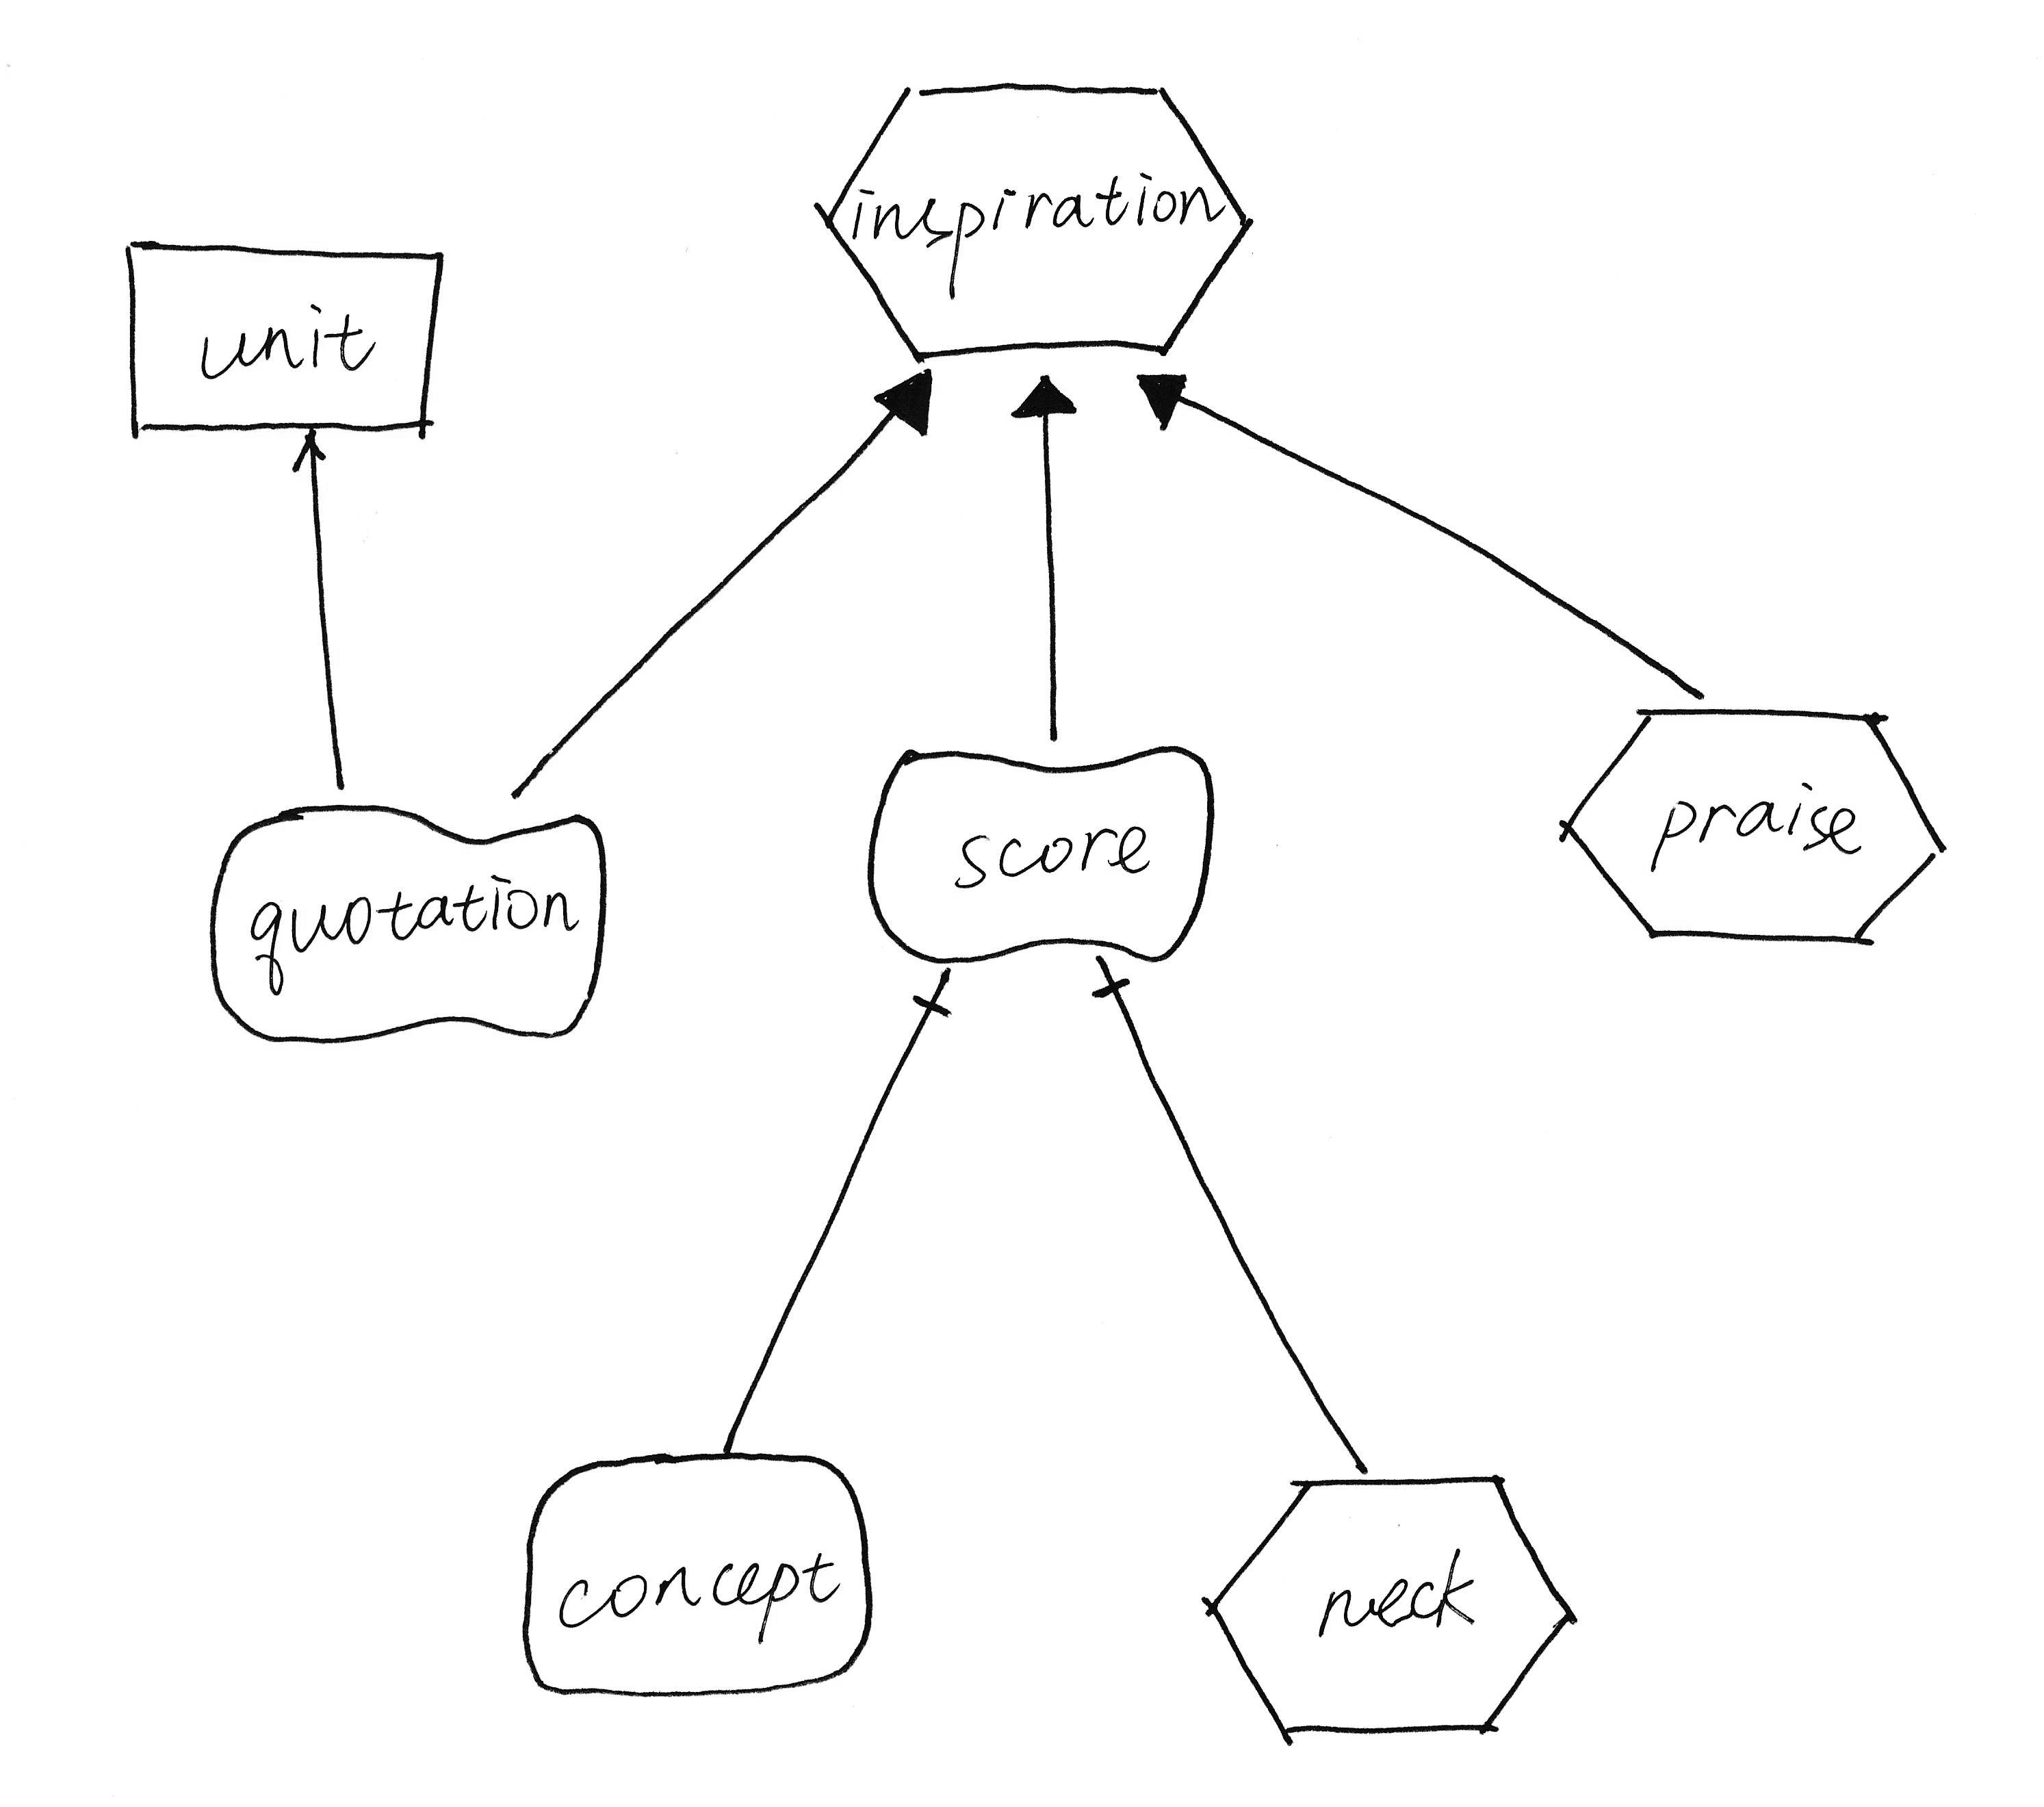and: (1071, 938, 1153, 1019), (898, 956, 971, 1043)
arrow: (279, 410, 340, 485)
goal: (509, 1435, 889, 1713)
or: (862, 356, 949, 445), (1005, 358, 1095, 434), (1125, 359, 1207, 438)
quality: (188, 788, 621, 1057), (848, 733, 1238, 982)
resource: (106, 215, 464, 453)
task: (804, 65, 1264, 375), (1186, 1456, 1591, 1756), (1538, 694, 1960, 958)
